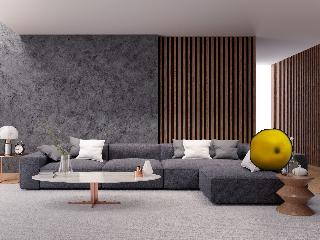lemon: (251, 130, 291, 170)
